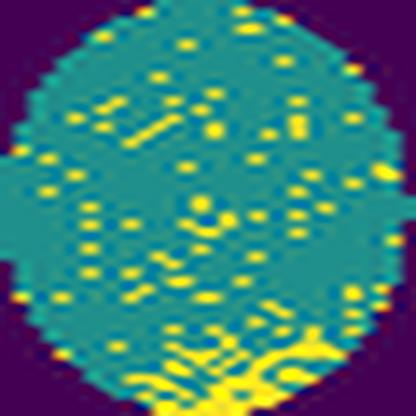Edge-Loc: (118, 315, 349, 416)
